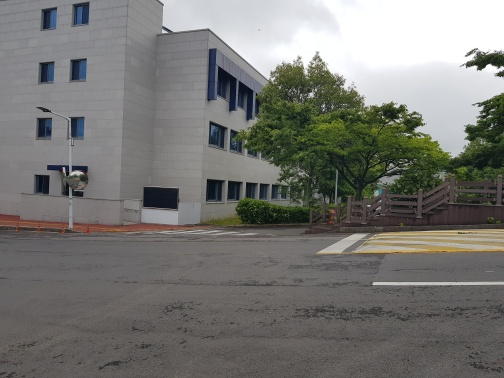College of Social Sciences: (2, 2, 306, 224)
